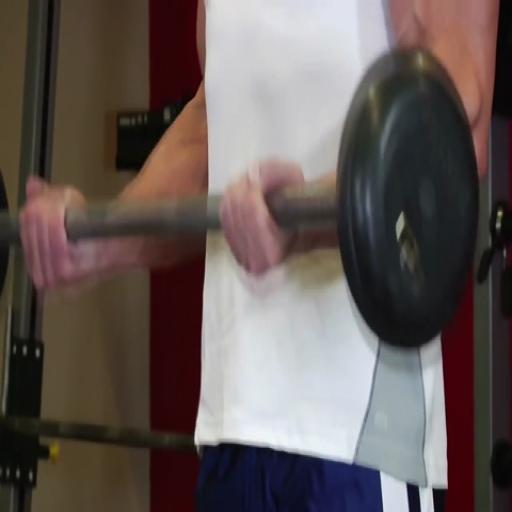exercise: (17, 0, 511, 511)
